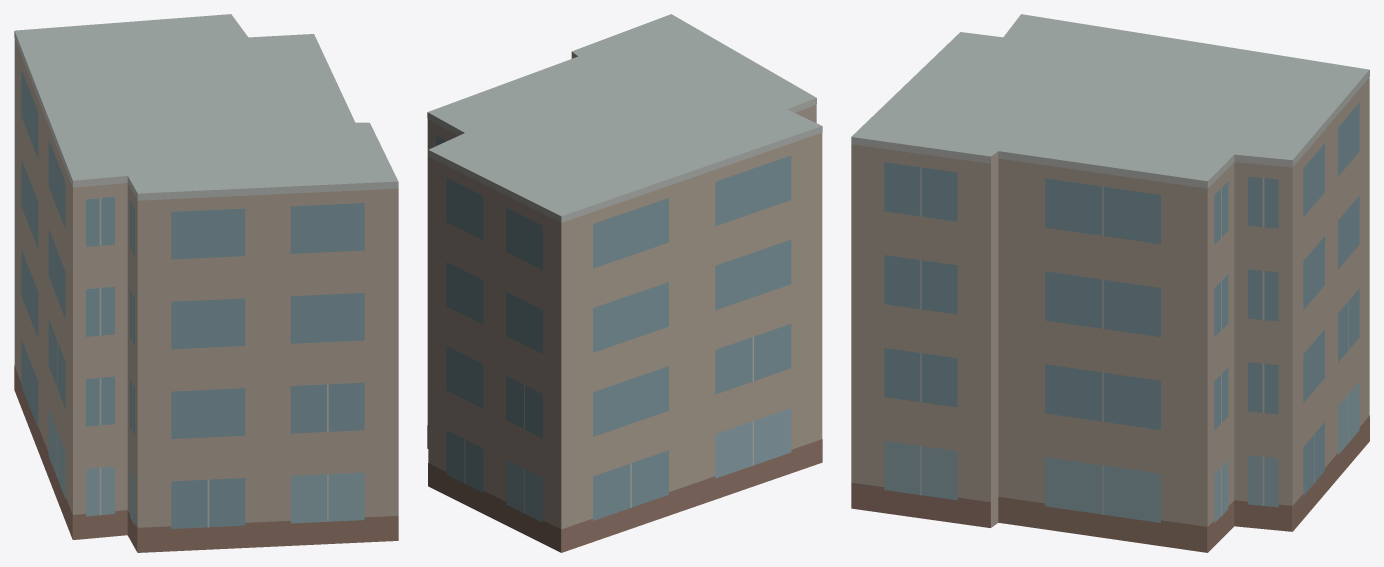
File: survey-upis-32925232.glb
3 renders of one model, left to right at view 1: azimuth 30°, elevation 25°; view 2: azimuth 150°, elevation 25°; view 3: azimuth 270°, elevation 25°, orthographic. The views are drawn at different scales.
Parts seen in each view (by area): view 1: survey-upis-32925232.tmp; view 2: survey-upis-32925232.tmp; view 3: survey-upis-32925232.tmp.
Part boxes in pixels (x1=…): survey-upis-32925232.tmp: x1=14, y1=14, x2=398, y2=552; survey-upis-32925232.tmp: x1=427, y1=14, x2=822, y2=552; survey-upis-32925232.tmp: x1=851, y1=14, x2=1369, y2=552.
Size of the model in its own units: 11.98 by 12.4 by 15.69.
